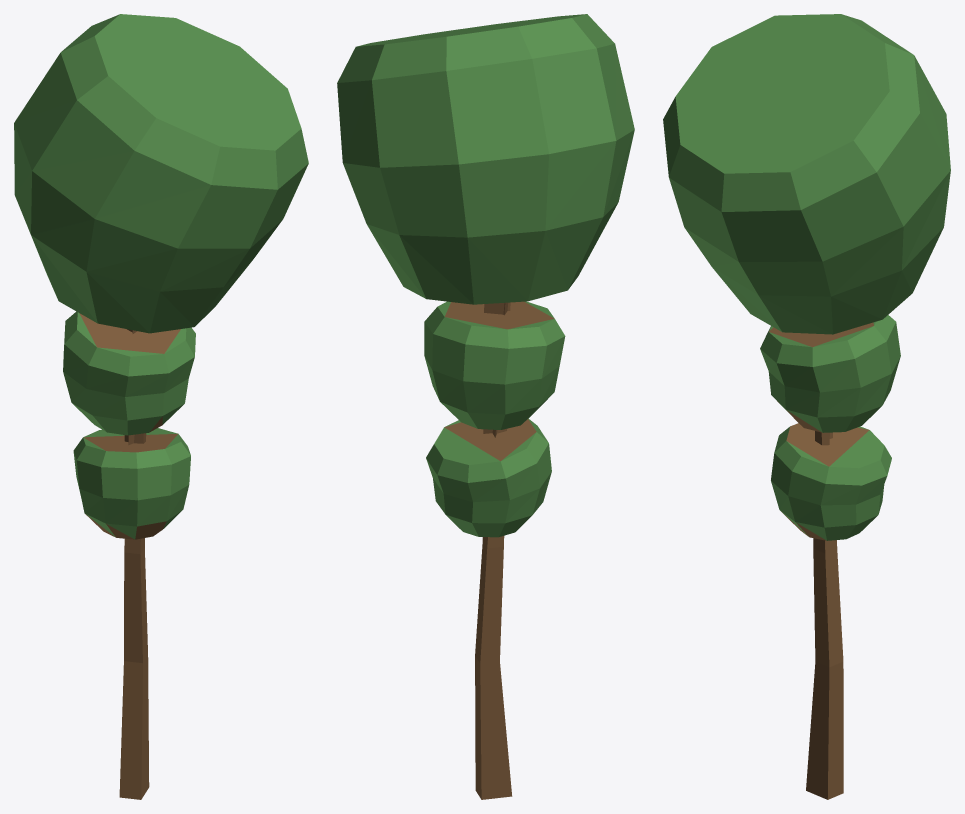
The model's file is tree3d-016.glb.
3 renders of one model, left to right at view 1: azimuth 30°, elevation 25°; view 2: azimuth 150°, elevation 25°; view 3: azimuth 270°, elevation 25°, orthographic. The views are drawn at different scales.
Parts seen in each view (by area): view 1: tree3d-016; view 2: tree3d-016; view 3: tree3d-016.
Part boxes in pixels (x1,y1,x2,y2): tree3d-016: (14,14,308,799); tree3d-016: (337,14,634,799); tree3d-016: (663,14,950,799).
Bounding box in the file's own units: 0.3544 × 1 × 0.3422.
